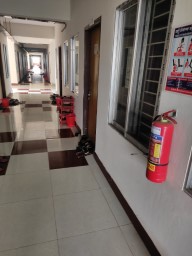fire_extinguisher: (82, 19, 138, 62), (72, 221, 84, 256), (73, 221, 81, 256)
